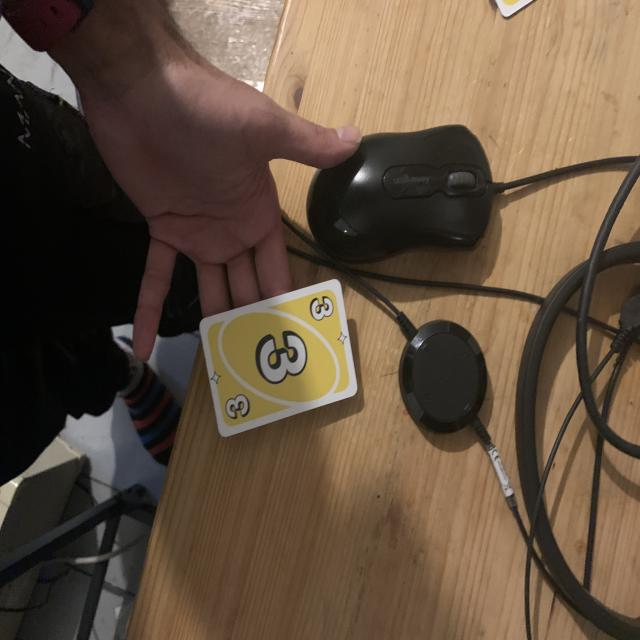lyellow-3: (306, 292, 341, 329)
